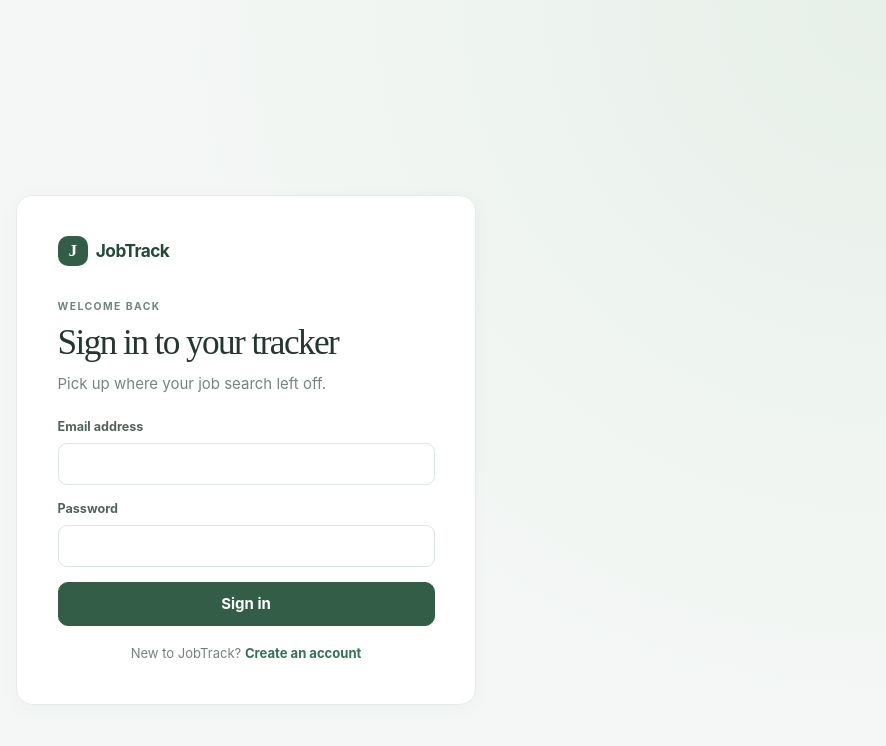
login form › shows validation errors before sending invalid data
Click the button "Sign in" at (246, 604), box [58,582,434,626]
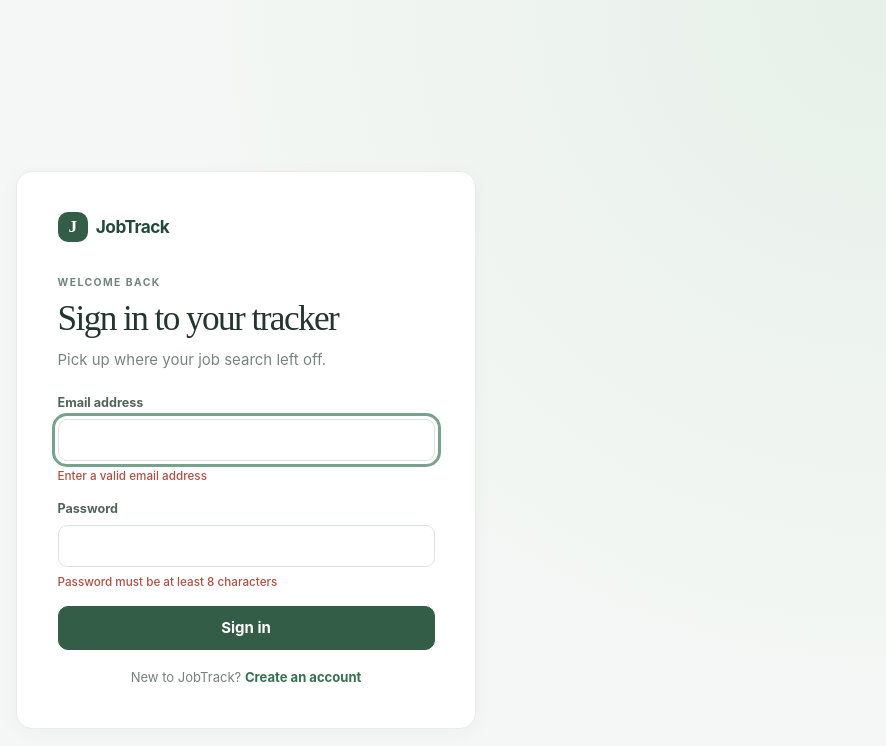
Check: the text "Enter a valid email address" is shown, box [58,469,207,483]
Check: the text "Password must be at least 8 characters" is shown, box [58,575,277,589]
